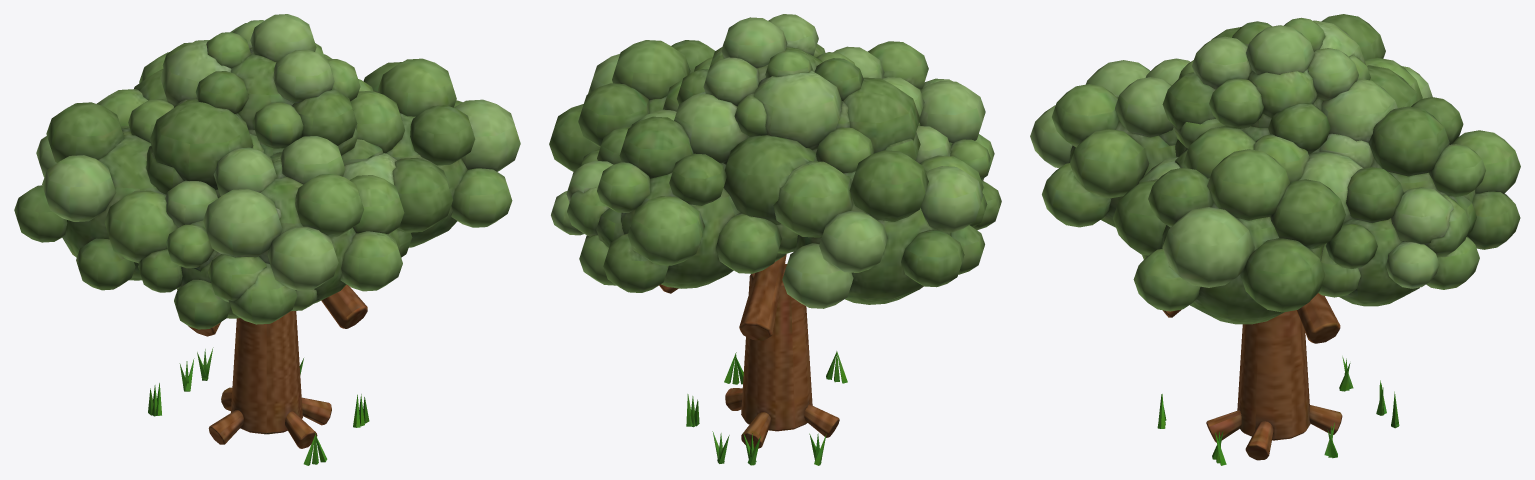
Rendered from pistachio_tree.glb.
The picture shows the model from 3 angles, left to right: view 1: azimuth 30°, elevation 25°; view 2: azimuth 150°, elevation 25°; view 3: azimuth 270°, elevation 25°; orthographic projection. The views are drawn at different scales.
Visible parts, largest first — view 1: crown, pistachio_tree; view 2: crown, pistachio_tree; view 3: crown, pistachio_tree.
Part boxes in pixels (x1,y1,x2,y2): crown: (14,14,520,329); pistachio_tree: (148,284,369,465); crown: (549,14,1001,308); pistachio_tree: (659,254,847,465); crown: (1030,14,1520,324); pistachio_tree: (1157,293,1399,465).
Size of the model in its own units: 1.32 by 1.17 by 1.25.
Materials: 1 (1 with a texture image).
